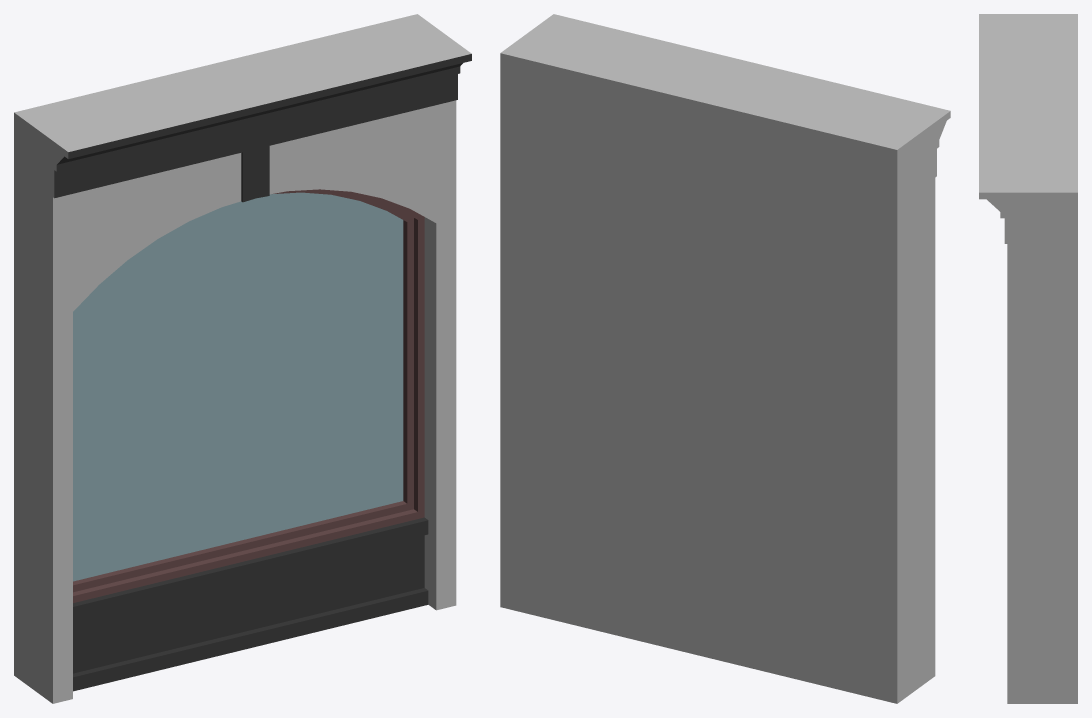
File: FloorTile1.fbx
3 views of the same model, side by side, from view 1: azimuth 30°, elevation 25°; view 2: azimuth 150°, elevation 25°; view 3: azimuth 270°, elevation 25° (orthographic). The views are drawn at different scales.
Visible parts, largest first — view 1: Tile1; view 2: Tile1; view 3: Tile1.
Part boxes in pixels (x1,y1,x2,y2): Tile1: (14, 14, 471, 703); Tile1: (500, 14, 950, 703); Tile1: (979, 14, 1077, 703).
Bounding box in the file's own units: 3 × 4 × 0.7.
